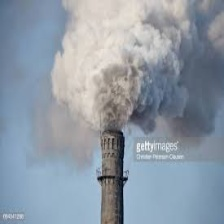smoke: (46, 1, 217, 134)
